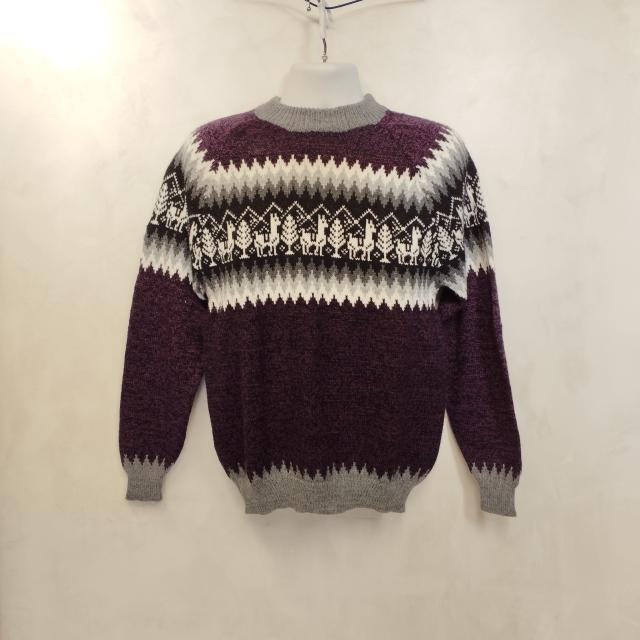Chompa: (118, 74, 523, 518)
